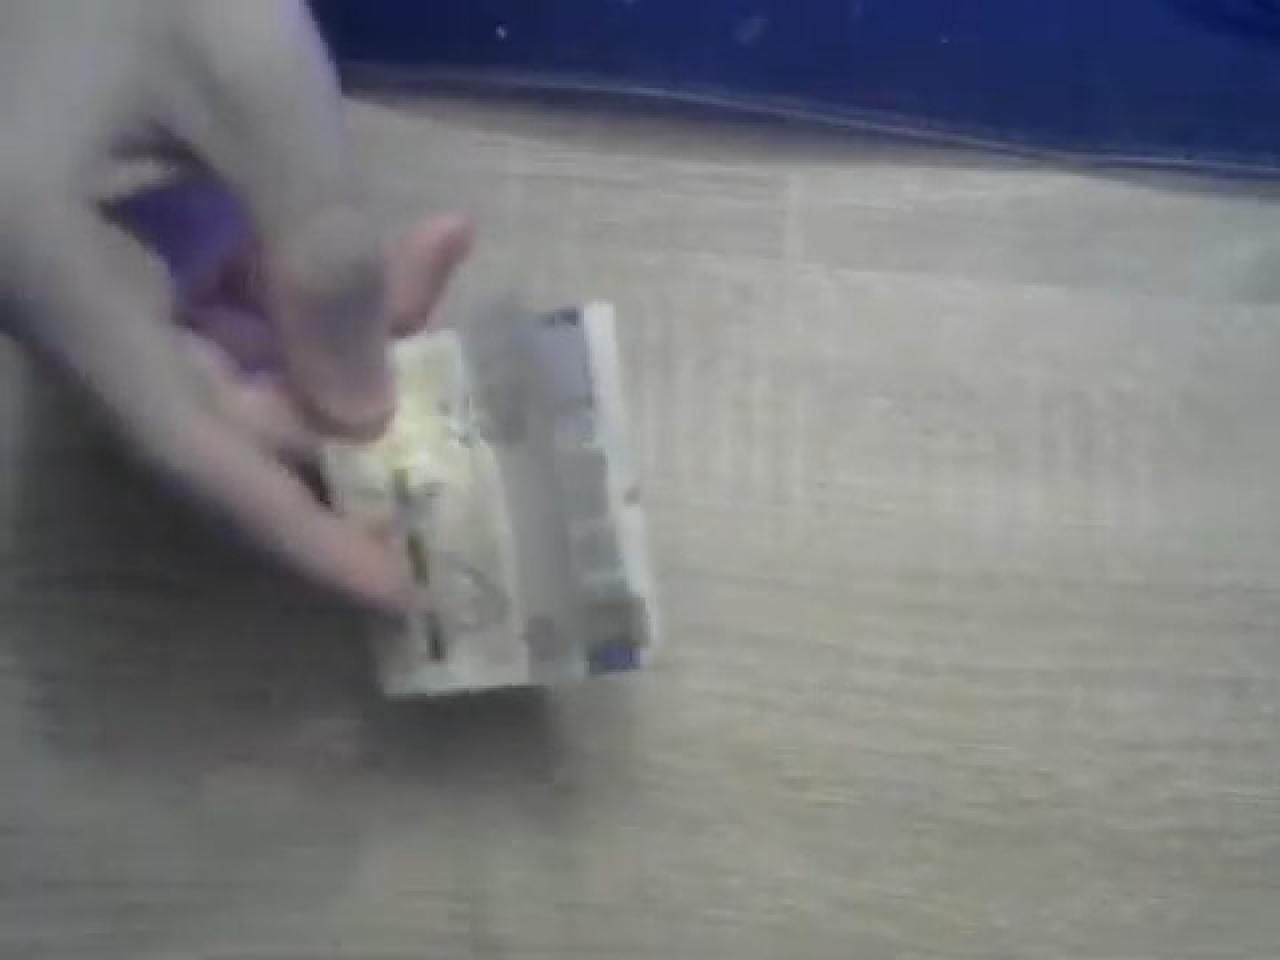10leva: (319, 288, 661, 707)
